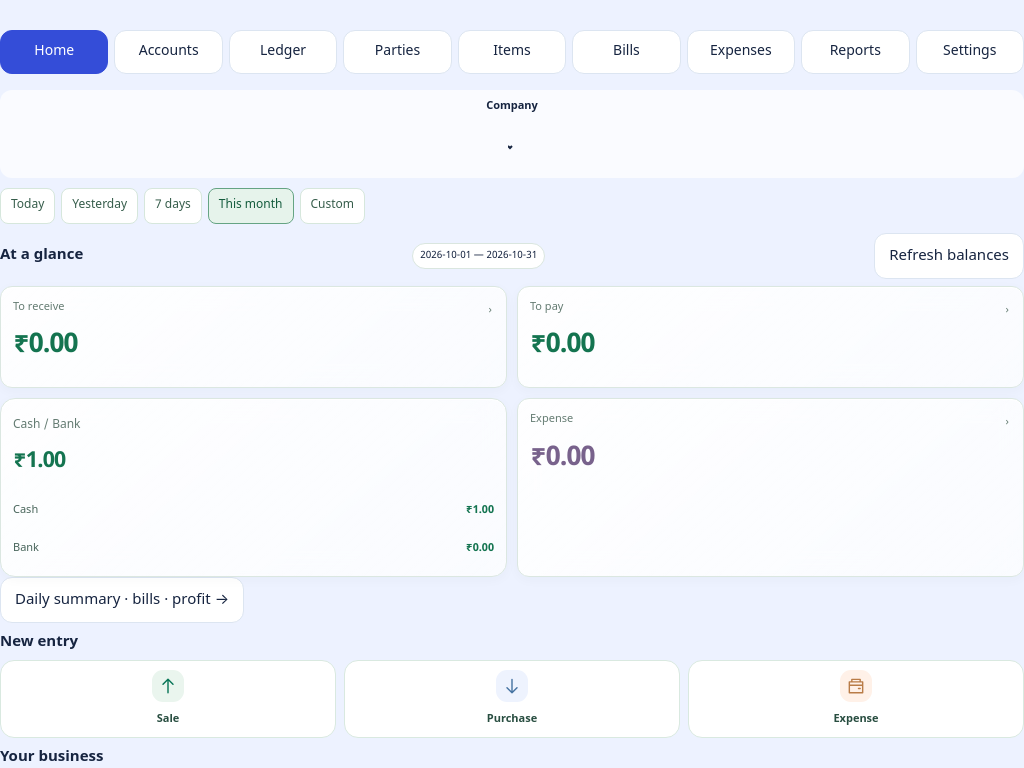
it: opens the clicked party ledger and avoids loading masters and companies again just for a date change
The image size is (1024, 768).
Click the button "Today" at coordinates (28, 206), box [0,188,55,224]
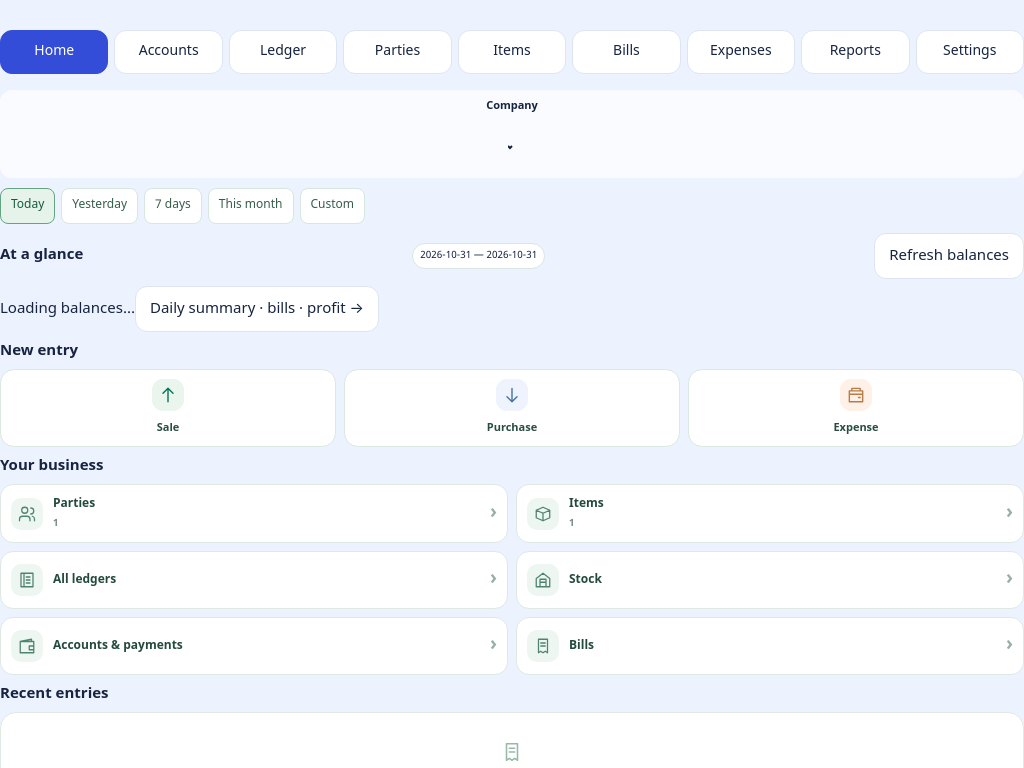
Click the button "Parties" at coordinates (398, 52), box [343,30,452,74]
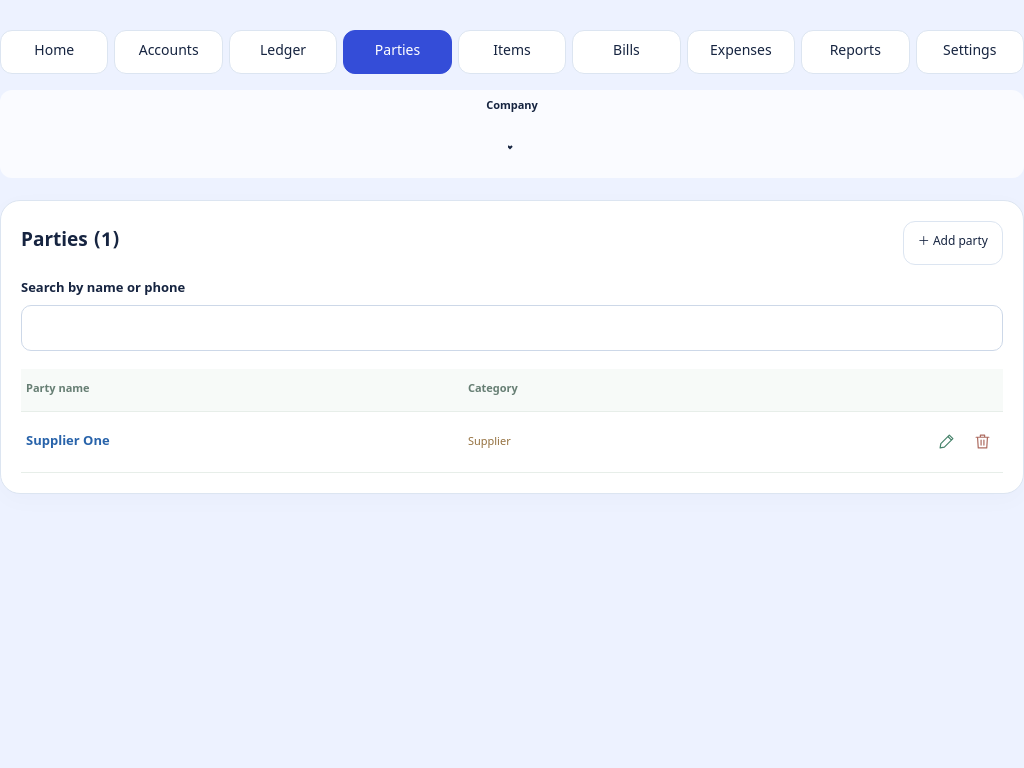
Click the button "Supplier One" at coordinates (68, 442), box [26,426,110,458]
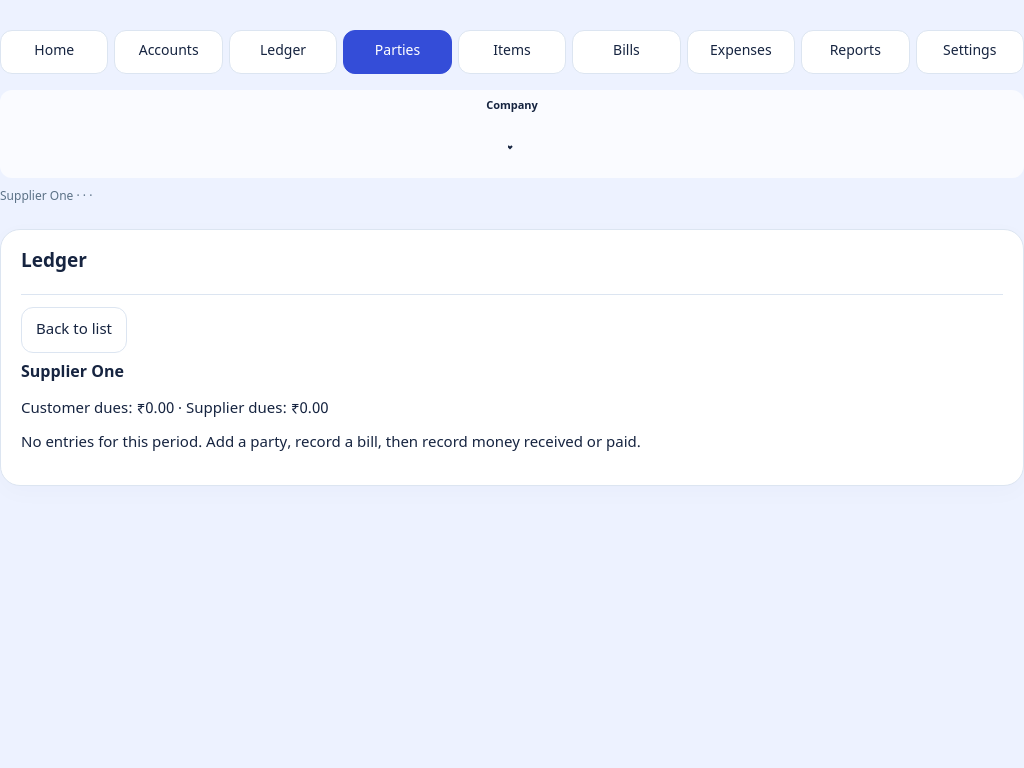
Expected: the heading "Supplier One" is shown, [21,362,124,384]
